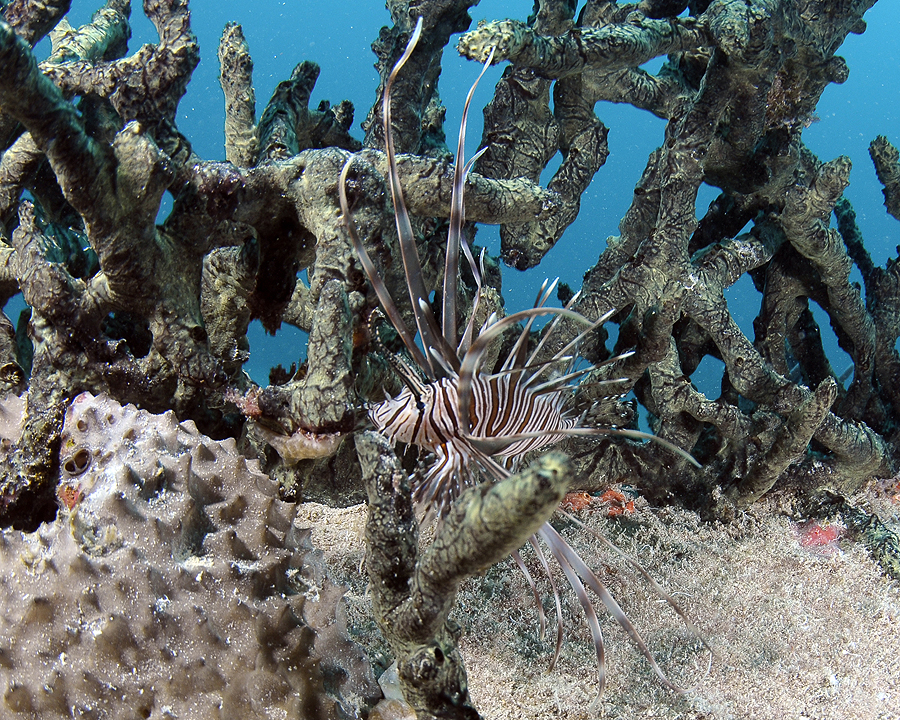Pterois_volitans: (293, 164, 690, 629)
